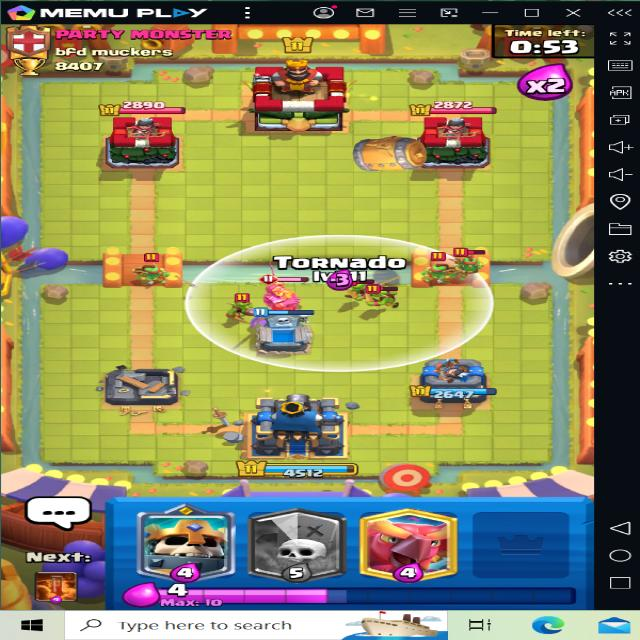EvoKnight: (259, 271, 307, 312)
Goblin: (329, 268, 372, 302), (369, 282, 415, 312), (217, 293, 259, 322)
Goblinbarrel: (342, 129, 446, 179)
Speargoblin: (119, 248, 192, 292), (418, 249, 458, 286), (450, 242, 489, 274)
